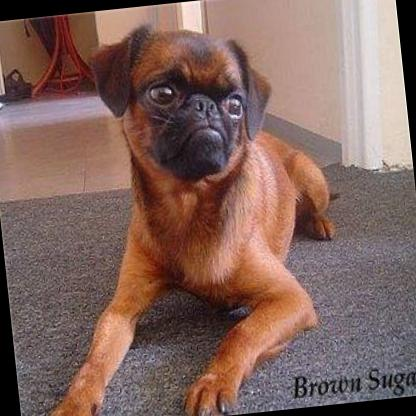Brabancon_griffon: (0, 11, 356, 416)
